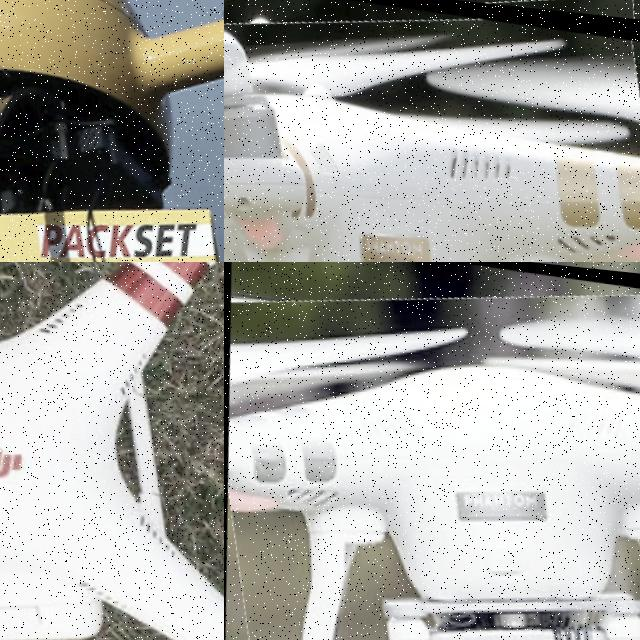0: (224, 262, 640, 640), (224, 0, 640, 262), (0, 262, 224, 640)
drone: (0, 0, 224, 262)
